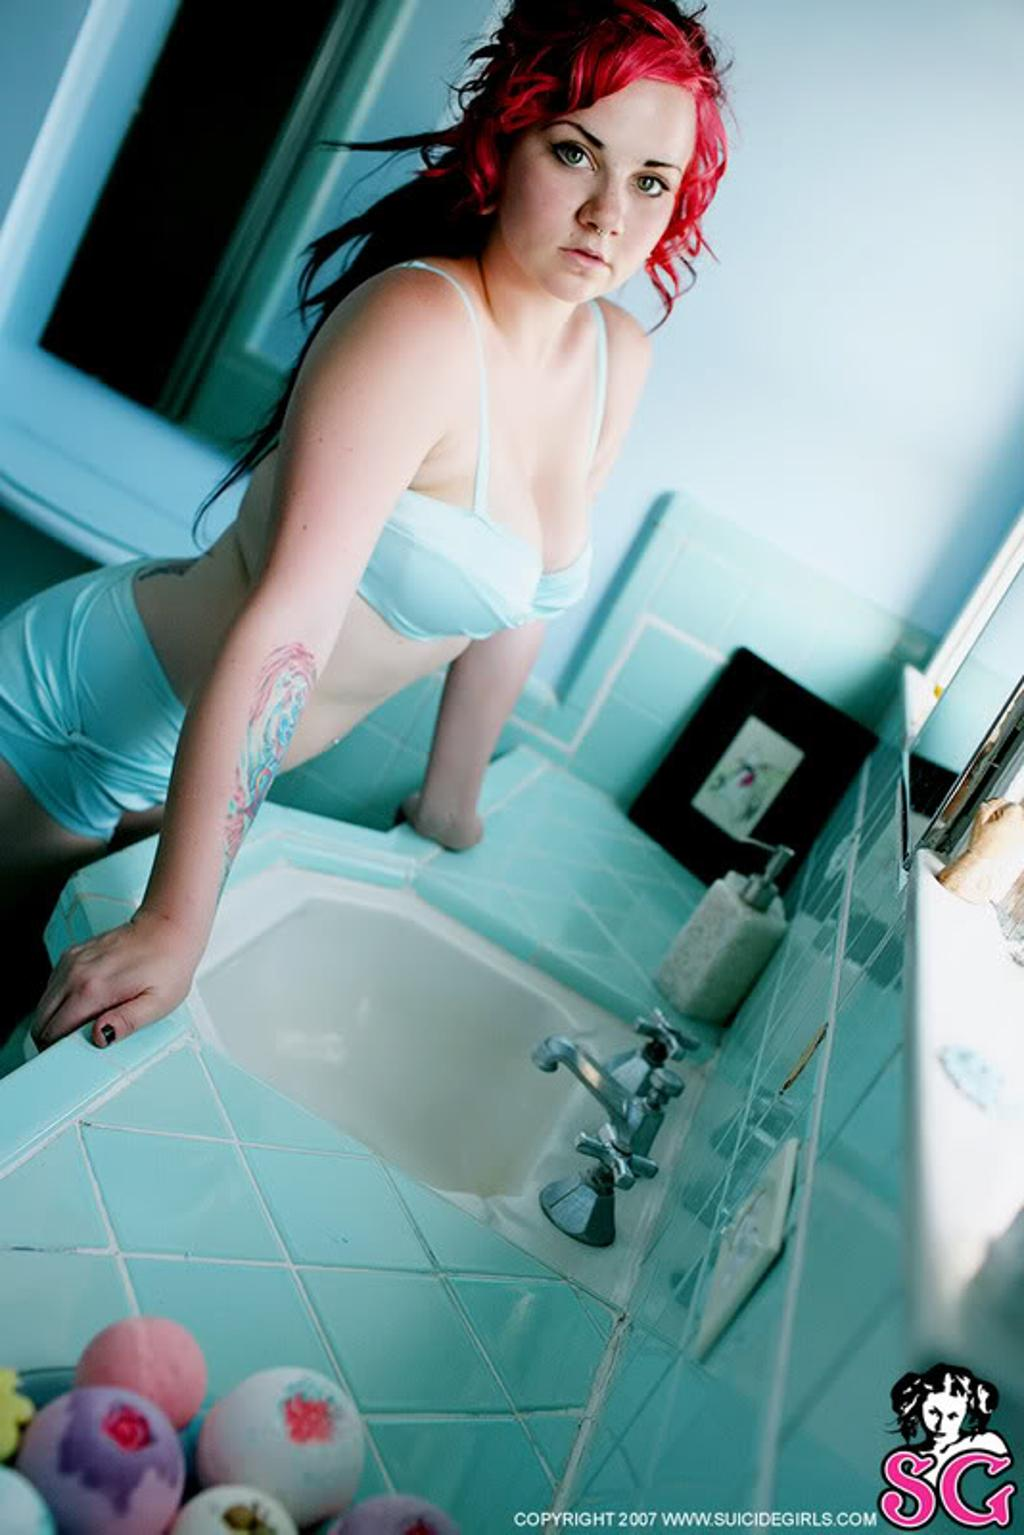face: (512, 69, 674, 315)
